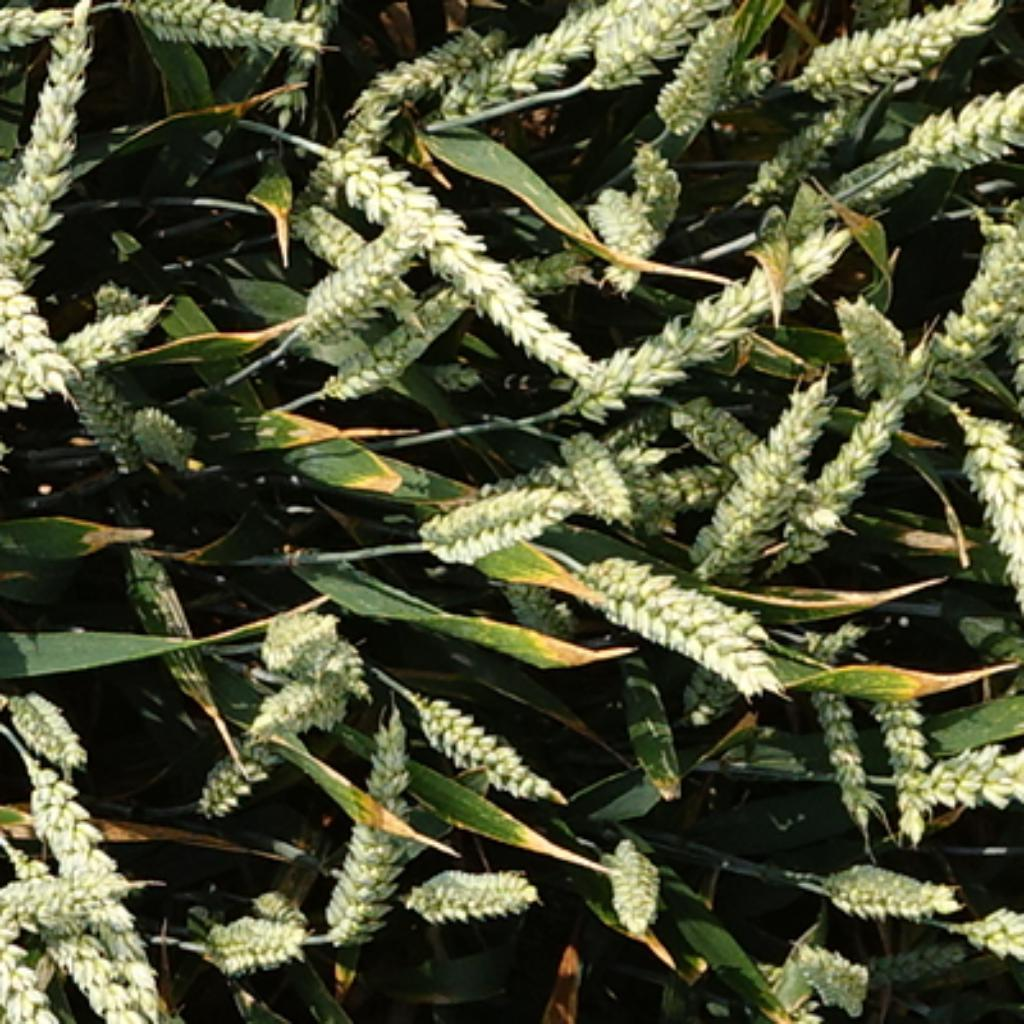0-0: (333, 148, 641, 416), (583, 225, 862, 420), (31, 759, 180, 1024), (765, 332, 931, 555), (570, 545, 775, 688), (0, 834, 149, 1024), (442, 0, 688, 115), (686, 391, 834, 576), (1, 0, 95, 287), (665, 401, 860, 537), (0, 289, 174, 412), (320, 706, 409, 944), (901, 221, 1024, 385), (793, 0, 1000, 92), (419, 691, 570, 816), (581, 0, 785, 89), (0, 204, 87, 394), (302, 204, 437, 325), (312, 299, 471, 401), (58, 360, 194, 465), (352, 30, 516, 117), (291, 227, 422, 335), (958, 412, 1024, 622), (650, 15, 760, 140), (0, 874, 91, 1022), (417, 491, 586, 568), (560, 468, 821, 517), (811, 665, 878, 847), (744, 102, 865, 202), (0, 865, 137, 952), (908, 72, 1024, 174), (287, 99, 399, 198), (128, 0, 322, 56), (186, 719, 294, 814), (872, 683, 934, 847), (0, 675, 99, 774), (814, 849, 954, 919), (243, 655, 363, 734), (683, 606, 757, 734), (409, 855, 545, 924), (266, 0, 337, 131), (476, 445, 675, 491), (903, 742, 1024, 816), (199, 893, 312, 972), (808, 144, 927, 216), (834, 296, 913, 404), (250, 593, 355, 673), (771, 941, 868, 1024), (558, 427, 634, 529), (860, 926, 972, 988), (601, 837, 668, 936), (583, 174, 660, 256), (491, 565, 573, 632), (624, 135, 683, 215), (798, 616, 883, 663), (317, 637, 373, 706), (960, 906, 1024, 962), (0, 3, 75, 50), (135, 412, 199, 465), (604, 404, 673, 453), (91, 286, 145, 348), (711, 58, 775, 101), (248, 890, 307, 926)
